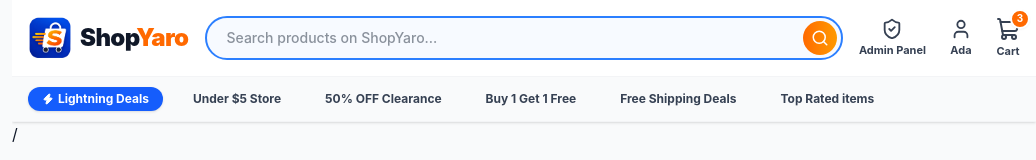
Test: Navbar admin link › shows for an admin, next to the normal profile and cart buttons, and opens /admin
The width and height of the screenshot is (1036, 160).
Expected: the button "3 Cart" is shown, left=996, top=17, right=1020, bottom=59
Expected: the button "Ada" is shown, left=950, top=18, right=972, bottom=58
Click the button "Admin Panel" at (892, 38), box left=859, top=18, right=926, bottom=58
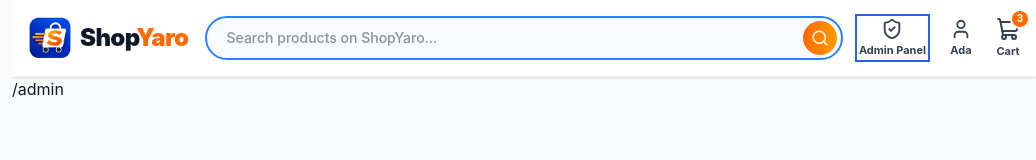
Result: the text with test id "where" reads "/admin" at left=12, top=79, right=64, bottom=99
